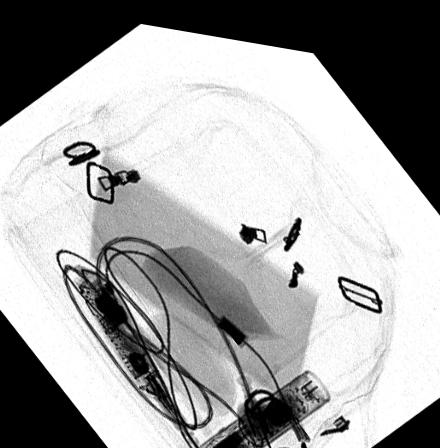Baton: (194, 358, 332, 448)
